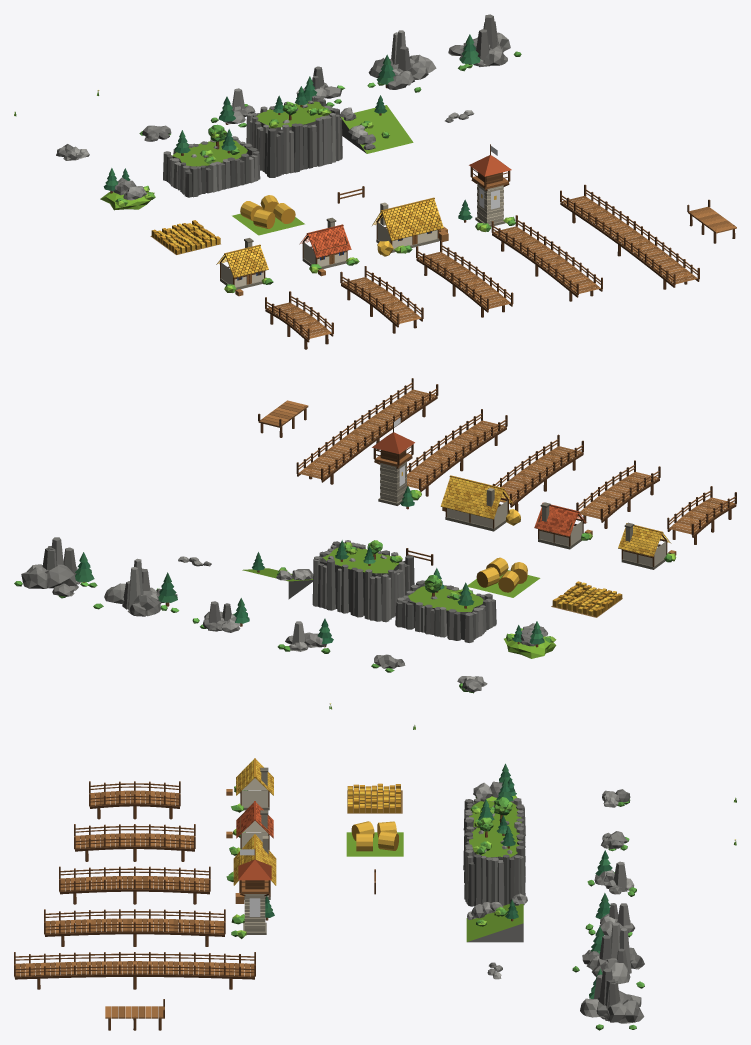
The model's file is map_library.glb.
The picture shows the model from 3 angles, top to bottom: view 1: azimuth 30°, elevation 25°; view 2: azimuth 150°, elevation 25°; view 3: azimuth 270°, elevation 25°; orthographic projection. The views are drawn at different scales.
Visible parts, largest first — view 1: cliff_tall, cliff_edge, bridge_8, bridge_6, farm_building, bridge_5, watchtower_s, slope_piece, bridge_4, stone_l1, house_tile, house_thatch (+8 smaller); view 2: cliff_tall, cliff_edge, bridge_8, farm_building, bridge_6, stone_l2, bridge_5, watchtower_s, stone_l1, bridge_4, house_thatch, house_tile (+8 smaller); view 3: bridge_8, cliff_tall, bridge_6, bridge_5, bridge_4, watchtower_s, slope_piece, stone_l1, stone_l2, bridge_3, hay_bales, cliff_edge (+8 smaller).
Part boxes in pixels (bbox=[...]): cliff_tall: bbox=[246, 86, 342, 177]; cliff_edge: bbox=[163, 124, 260, 197]; bridge_8: bbox=[560, 184, 699, 289]; bridge_6: bbox=[491, 215, 602, 301]; farm_building: bbox=[372, 197, 448, 256]; bridge_5: bbox=[416, 240, 513, 317]; watchtower_s: bbox=[458, 144, 515, 231]; slope_piece: bbox=[340, 95, 413, 153]; bridge_4: bbox=[340, 266, 423, 333]; stone_l1: bbox=[367, 30, 436, 92]; house_tile: bbox=[299, 217, 359, 276]; house_thatch: bbox=[216, 238, 273, 296]; cliff_tall: bbox=[312, 540, 414, 622]; cliff_edge: bbox=[395, 568, 496, 642]; bridge_8: bbox=[296, 378, 438, 484]; farm_building: bbox=[440, 475, 520, 531]; bridge_6: bbox=[407, 409, 507, 496]; stone_l2: bbox=[14, 537, 97, 598]; bridge_5: bbox=[492, 434, 583, 511]; watchtower_s: bbox=[372, 417, 421, 509]; stone_l1: bbox=[93, 558, 179, 616]; bridge_4: bbox=[576, 460, 660, 528]; house_thatch: bbox=[618, 522, 676, 569]; house_tile: bbox=[534, 502, 592, 549]; bridge_8: bbox=[14, 952, 255, 989]; cliff_tall: bbox=[463, 815, 525, 906]; bridge_6: bbox=[44, 909, 225, 946]; bridge_5: bbox=[59, 866, 210, 904]; bridge_4: bbox=[74, 824, 195, 861]; watchtower_s: bbox=[231, 848, 274, 938]; slope_piece: bbox=[466, 893, 527, 942]; stone_l1: bbox=[572, 923, 644, 988]; stone_l2: bbox=[580, 968, 644, 1030]; bridge_3: bbox=[89, 781, 180, 819]; hay_bales: bbox=[346, 821, 403, 856]; cliff_edge: bbox=[463, 778, 525, 861].
Size of the model in its own units: 23.74 by 4.25 by 30.1.
